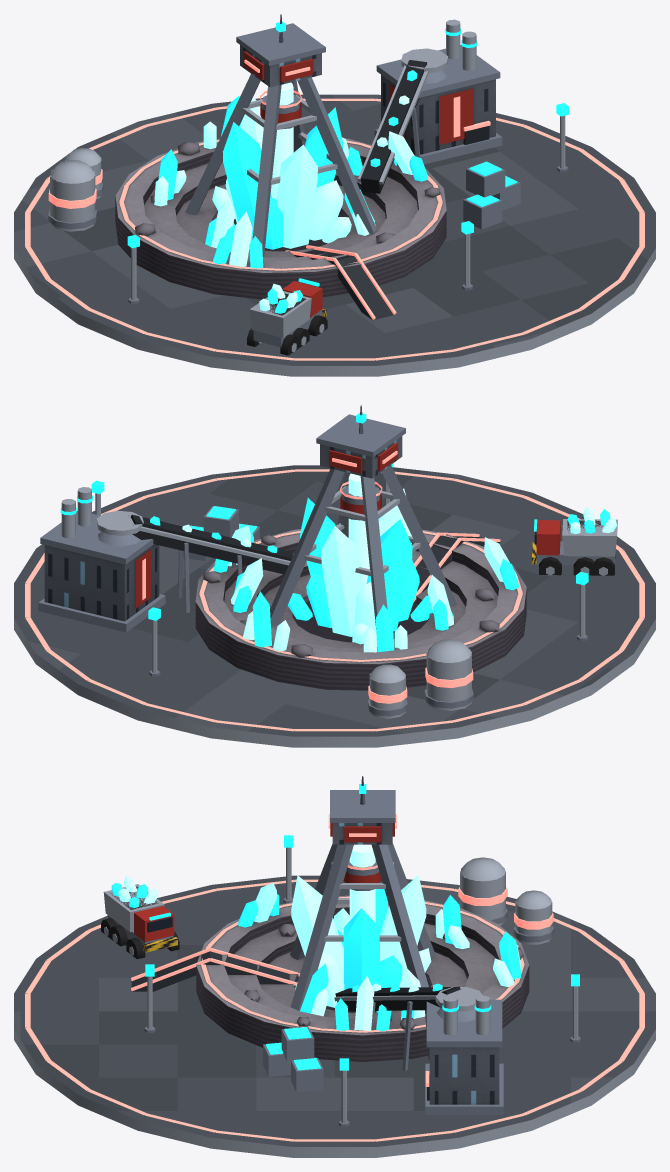
Rendered from mine_scifi_red.glb.
3 renders of one model, top to bottom at view 1: azimuth 30°, elevation 25°; view 2: azimuth 150°, elevation 25°; view 3: azimuth 270°, elevation 25°, orthographic.
Parts seen in each view (by area): view 1: mine_scifi_red; view 2: mine_scifi_red; view 3: mine_scifi_red.
Boxes of the visible parts, bbox=[...] form: mine_scifi_red: bbox=[14, 14, 655, 376]; mine_scifi_red: bbox=[14, 405, 655, 747]; mine_scifi_red: bbox=[14, 776, 655, 1157].
Size of the model in its own units: 1.39 by 0.54 by 1.39.
6 materials, 1 textured.
